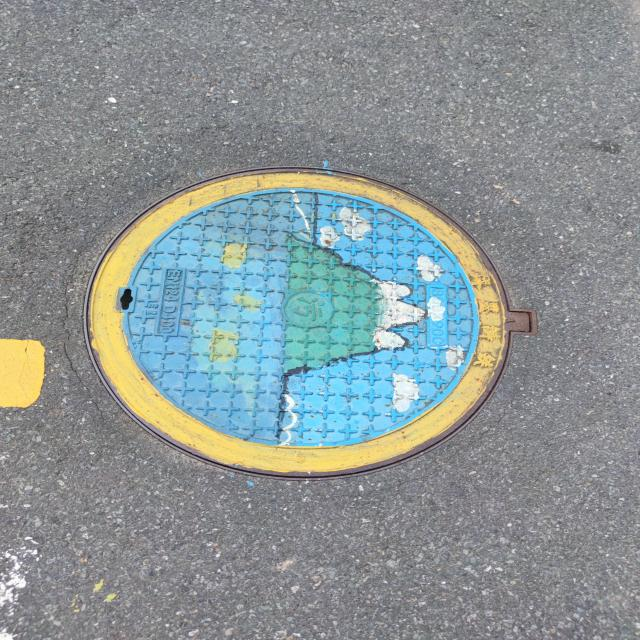Good: (77, 161, 544, 484)
